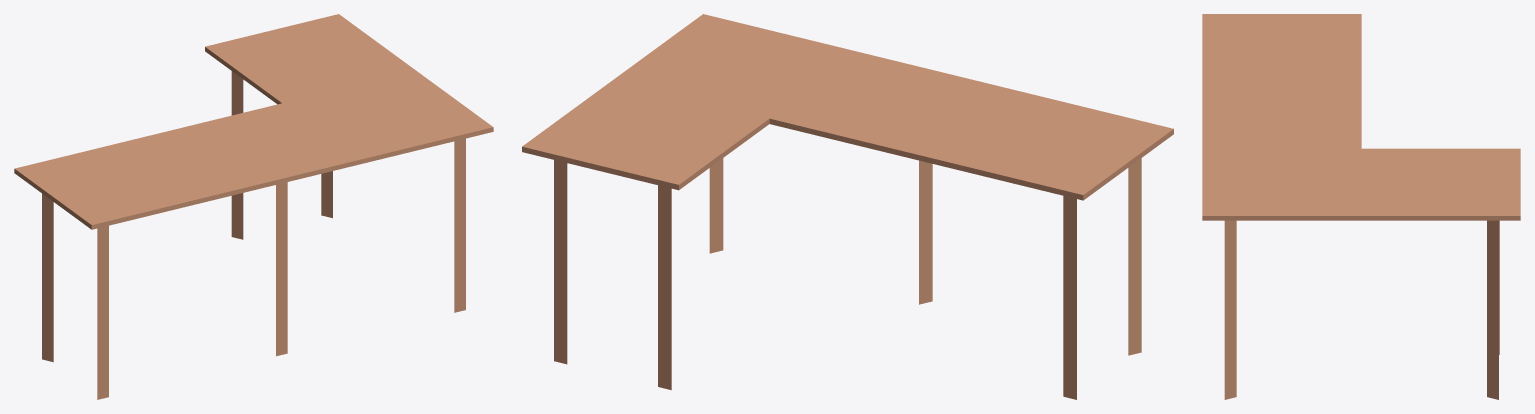
File: DeskCorner.obj
The picture shows the model from 3 angles, left to right: view 1: azimuth 30°, elevation 25°; view 2: azimuth 150°, elevation 25°; view 3: azimuth 270°, elevation 25°; orthographic projection. The views are drawn at different scales.
Visible parts, largest first — view 1: object_7, object_6, object_1, object_2, object_3, object_5, object_4; view 2: object_7, object_5, object_4, object_3, object_6, object_1, object_2; view 3: object_7, object_2, object_4.
Boxes of the visible parts, box(x1,y1,x2,y2) form: object_7: box(14, 14, 493, 229); object_6: box(97, 225, 108, 399); object_1: box(276, 182, 287, 356); object_2: box(454, 138, 465, 312); object_3: box(42, 193, 53, 362); object_5: box(231, 71, 243, 239); object_4: box(321, 171, 332, 218); object_7: box(522, 14, 1173, 200); object_5: box(658, 185, 671, 390); object_4: box(554, 160, 567, 364); object_3: box(1063, 196, 1076, 399); object_6: box(1128, 158, 1141, 355); object_1: box(919, 160, 932, 304); object_2: box(709, 158, 723, 253); object_7: box(1202, 14, 1520, 220); object_2: box(1224, 220, 1236, 399); object_4: box(1487, 220, 1498, 399).
Bounding box in the file's own units: 180 × 80 × 120.
